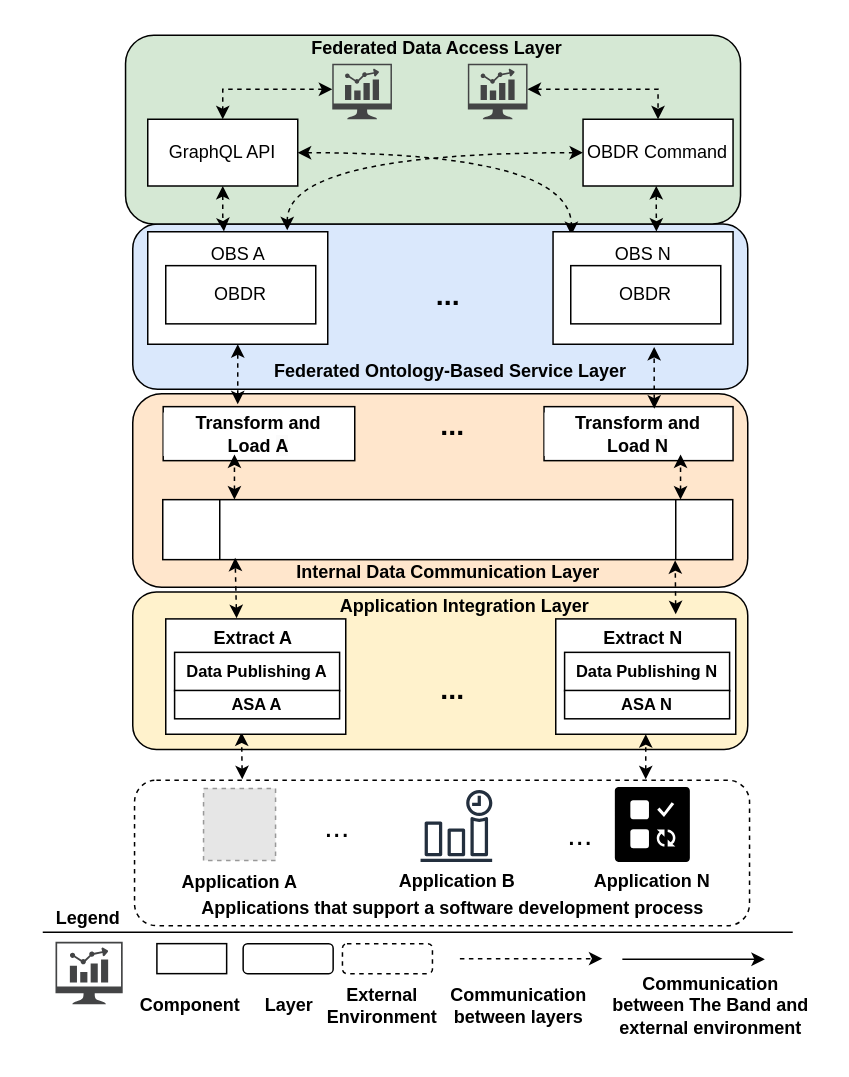
Some shapes in this 849 by 1077 pixel diagram are drawn without their labels. Grey dashed boxes stand in for pictures. The centre of each missing label's shape, as x and y in pixels:
"Client Solution" goes at (88,972).
"Dashboard" goes at (497,90).
"Data View" goes at (361,90).
"Message Broker" goes at (447,529).
